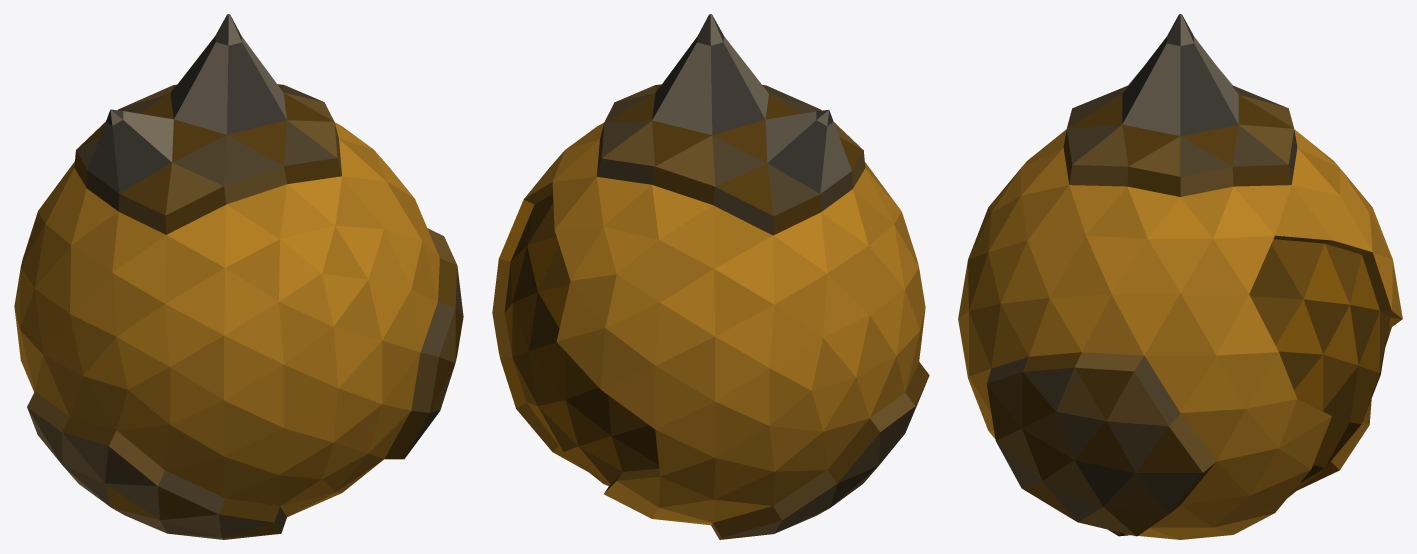
File: Erde_Test.dae
The picture shows the model from 3 angles, left to right: view 1: azimuth 30°, elevation 25°; view 2: azimuth 150°, elevation 25°; view 3: azimuth 270°, elevation 25°; orthographic projection. The views are drawn at different scales.
Visible parts, largest first — view 1: Planet; view 2: Planet; view 3: Planet.
Part boxes in pixels (left/top/right/bottom): Planet: left=14, top=14, right=463, bottom=539; Planet: left=492, top=14, right=929, bottom=539; Planet: left=958, top=14, right=1402, bottom=539.
Bounding box in the file's own units: 207 × 258 × 200.
